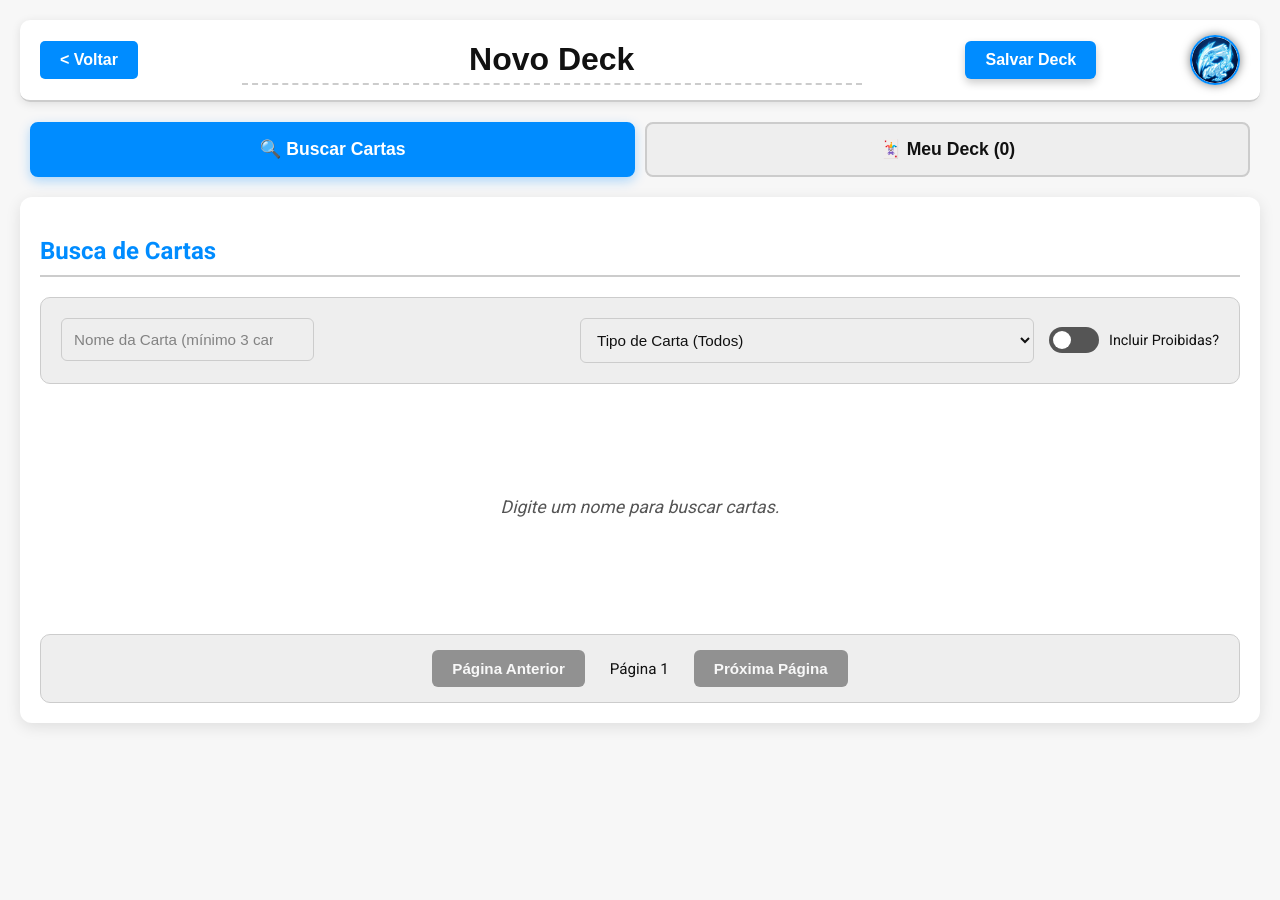
Test: CreateDeckPage Component › deve alternar entre abas
The width and height of the screenshot is (1280, 900).
Expected: the field showing "Novo Deck" is shown, [242,36,862,84]
What coordinates should you click on to do the following:
click the button "🃏 Meu Deck (0)"
I would click on:
 (948, 150)
Its box is [645,122,1250,177].
Wait 100 ms
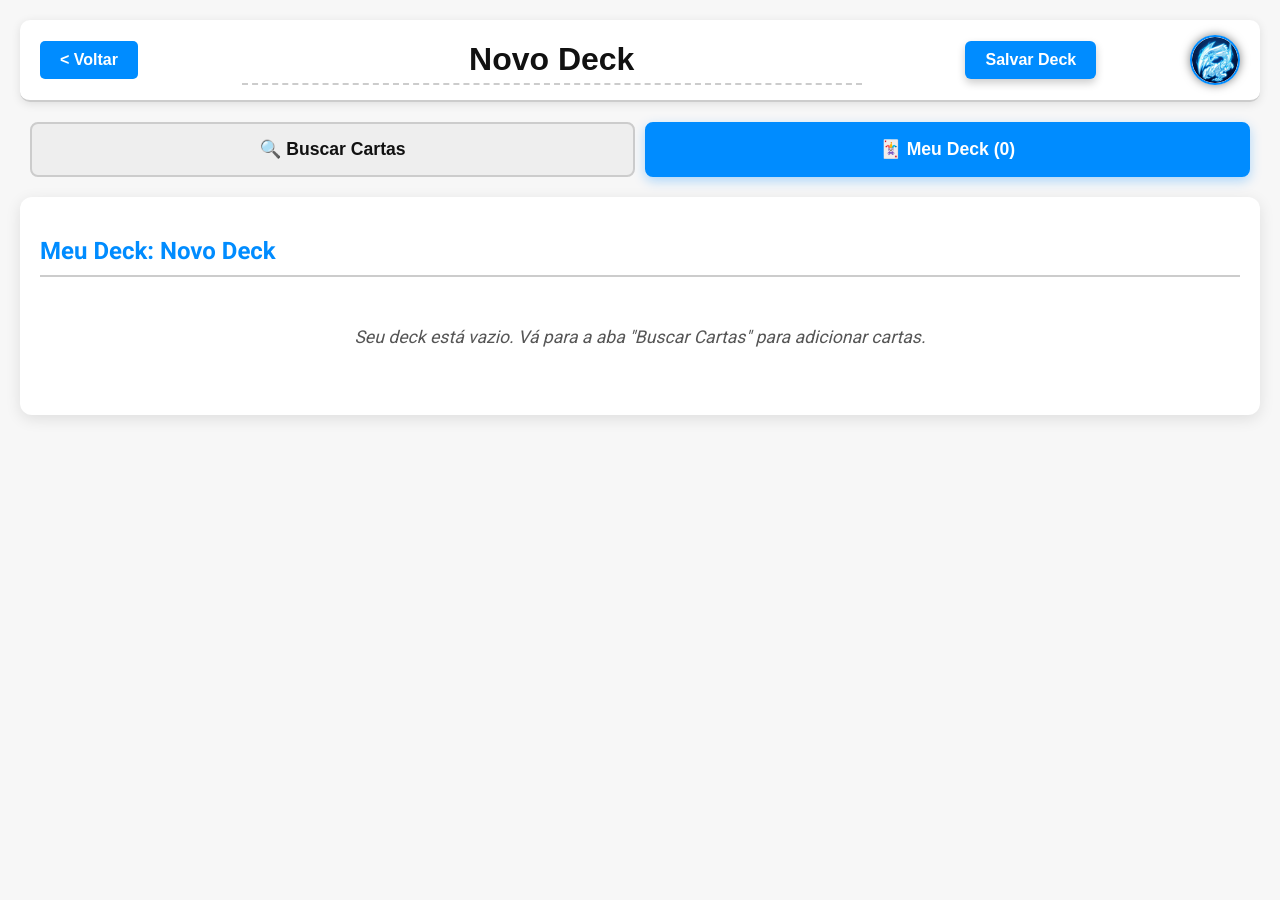
Now the text "Seu deck está vazio" is shown, box [354,327,926,347]
